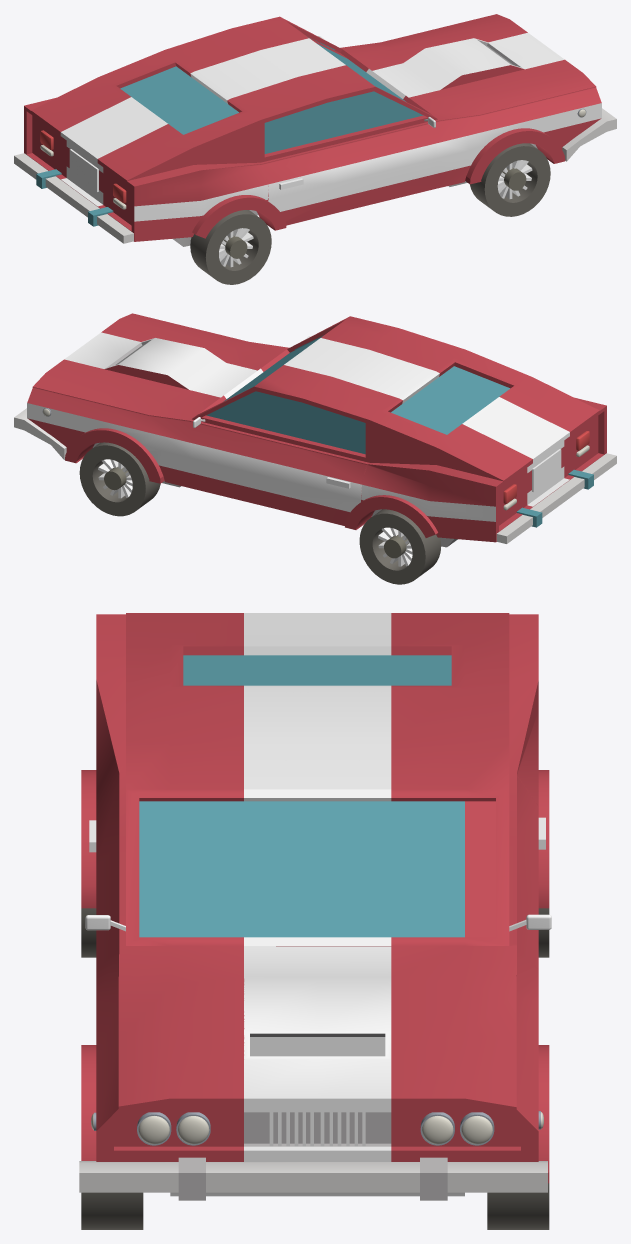
Rendered from std_car05.glb.
The picture shows the model from 3 angles, top to bottom: view 1: azimuth 30°, elevation 25°; view 2: azimuth 150°, elevation 25°; view 3: azimuth 270°, elevation 25°; orthographic projection. The views are drawn at different scales.
Parts seen in each view (by area): view 1: Object_8, Object_3, Object_16, Object_14, Object_13, Object_9, Object_12, Object_15, Object_2, Object_5; view 2: Object_8, Object_3, Object_16, Object_14, Object_13, Object_9, Object_12, Object_15, Object_2, Object_5; view 3: Object_8, Object_16, Object_3, Object_13, Object_10, Object_14, Object_4, Object_9, Object_6, Object_12, Object_7.
Boxes of the visible parts, box(x1,y1,x2,y2) form: Object_8: box(24, 14, 601, 241); Object_3: box(60, 33, 601, 221); Object_16: box(36, 36, 423, 226); Object_14: box(190, 143, 550, 284); Object_13: box(14, 108, 616, 243); Object_9: box(465, 128, 565, 184); Object_12: box(219, 119, 532, 267); Object_15: box(221, 167, 526, 258); Object_2: box(69, 149, 98, 191); Object_5: box(40, 130, 126, 203); Object_8: box(27, 313, 606, 542); Object_3: box(27, 332, 569, 521); Object_16: box(206, 335, 593, 527); Object_14: box(79, 442, 441, 584); Object_13: box(14, 408, 616, 543); Object_9: box(65, 428, 164, 483); Object_12: box(98, 419, 412, 566); Object_15: box(104, 467, 409, 558); Object_2: box(532, 449, 561, 492); Object_5: box(503, 431, 589, 503); Object_8: box(81, 613, 549, 1161); Object_16: box(139, 655, 464, 937); Object_3: box(244, 613, 391, 1161); Object_13: box(79, 1161, 547, 1192); Object_10: box(178, 1033, 447, 1200); Object_14: box(81, 908, 549, 1229); Object_4: box(170, 1037, 464, 1196); Object_9: box(81, 1045, 549, 1183); Object_6: box(91, 1112, 543, 1144); Object_12: box(89, 817, 545, 1146); Object_7: box(94, 1111, 540, 1145).
Bounding box in the file's own units: 175 × 51.48 × 72.05.
